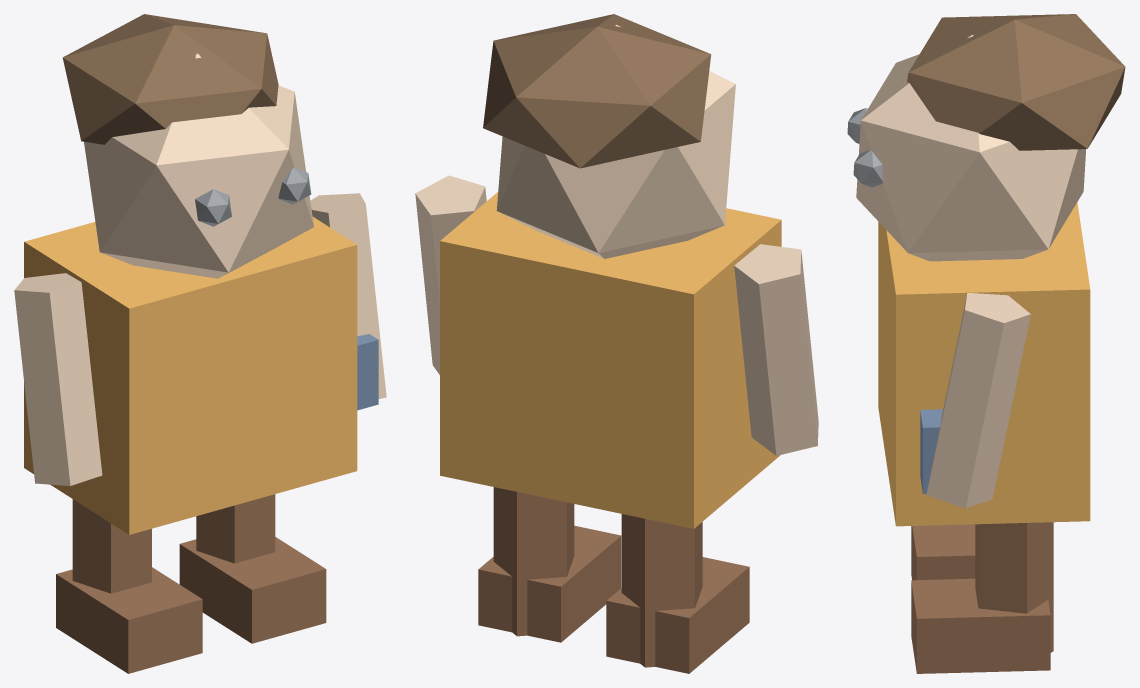
The model's file is npcpose_villager_walk_03.glb.
The picture shows the model from 3 angles, left to right: view 1: azimuth 30°, elevation 25°; view 2: azimuth 150°, elevation 25°; view 3: azimuth 270°, elevation 25°; orthographic projection. The views are drawn at different scales.
Parts seen in each view (by area): view 1: npcpose; view 2: npcpose; view 3: npcpose.
Boxes of the visible parts, left/top/right/bottom form: npcpose: left=14, top=14, right=386, bottom=673; npcpose: left=415, top=14, right=818, bottom=673; npcpose: left=847, top=14, right=1125, bottom=673.
Bounding box in the file's own units: 0.7003 × 1.09 × 0.4568.
